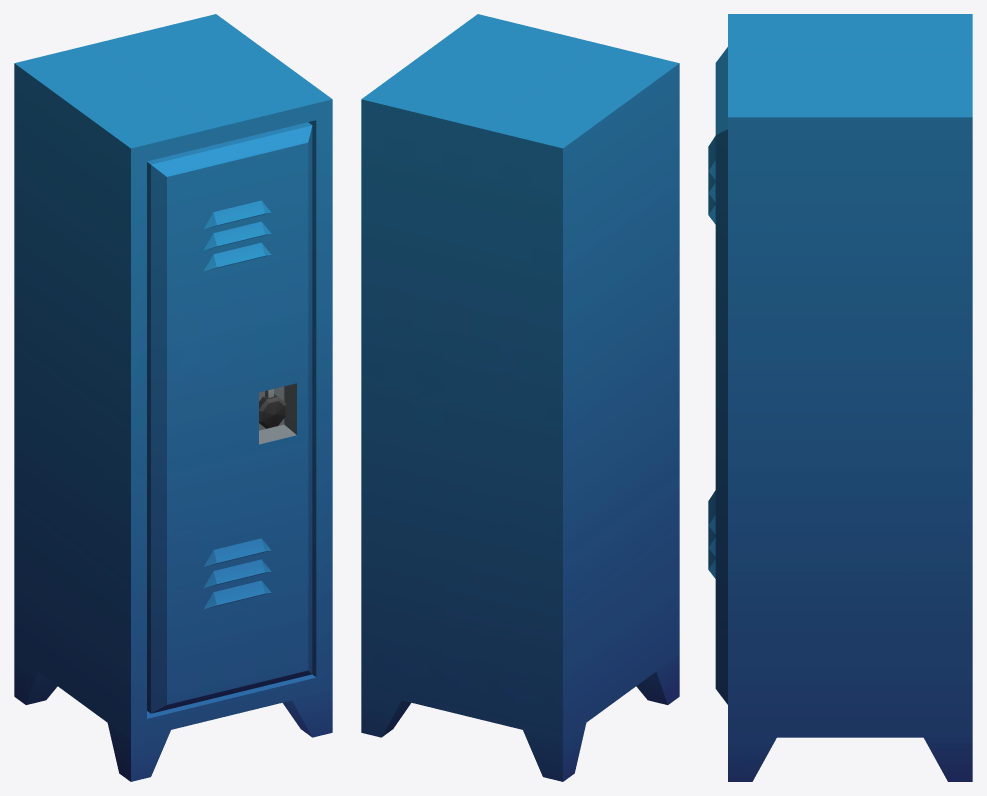
Rendered from Locker.gltf.
The picture shows the model from 3 angles, left to right: view 1: azimuth 30°, elevation 25°; view 2: azimuth 150°, elevation 25°; view 3: azimuth 270°, elevation 25°; orthographic projection. The views are drawn at different scales.
Parts seen in each view (by area): view 1: Locker, Locker_Door; view 2: Locker; view 3: Locker, Locker_Door.
Part boxes in pixels (<box>): Locker: <box>14,14,332,781</box>; Locker_Door: <box>147,122,312,713</box>; Locker: <box>361,14,679,781</box>; Locker: <box>728,14,972,781</box>; Locker_Door: <box>708,47,727,704</box>.
Size of the model in its own units: 1 by 3 by 1.08.
1 material, 1 textured.
